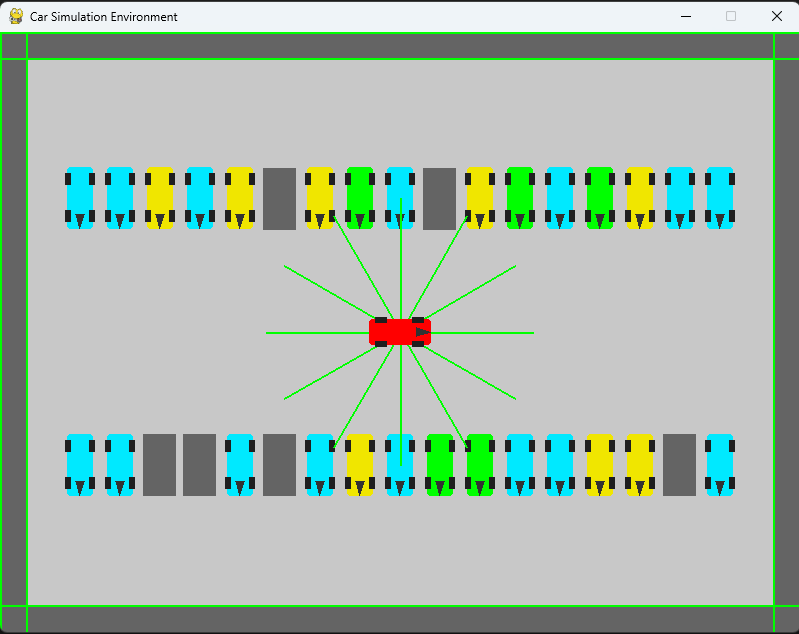ControlledCar: (363, 312, 441, 355)
ParkedCar: (702, 432, 739, 502), (300, 163, 337, 232), (342, 163, 378, 233), (581, 432, 618, 500), (62, 163, 98, 232), (541, 432, 579, 497), (221, 432, 257, 500), (423, 433, 460, 499), (500, 435, 539, 497), (461, 163, 496, 232), (661, 165, 697, 232), (182, 163, 217, 231), (304, 431, 339, 499), (103, 432, 139, 498), (462, 434, 499, 498), (703, 166, 738, 233), (340, 435, 375, 502), (222, 164, 256, 231), (583, 166, 617, 233), (141, 164, 175, 230), (501, 163, 535, 229), (64, 432, 97, 499), (622, 435, 655, 502), (546, 164, 578, 233), (386, 432, 418, 500), (103, 164, 135, 231), (623, 167, 656, 231), (385, 164, 416, 230)
ParkingSpot: (417, 163, 460, 235), (258, 430, 300, 503), (658, 428, 700, 500), (180, 427, 219, 503), (256, 163, 297, 234), (140, 431, 176, 500)
